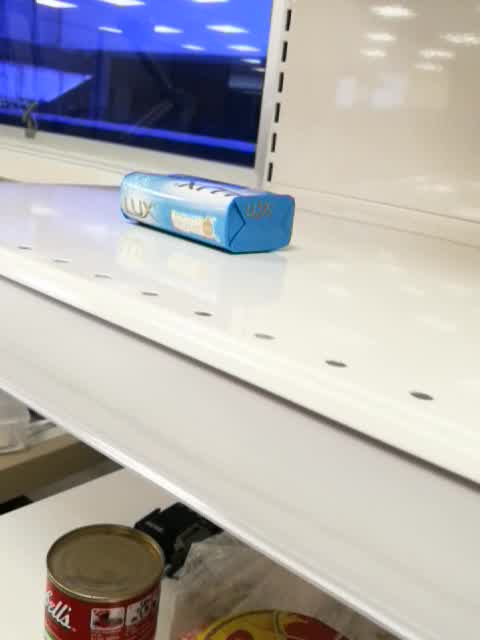soap: (118, 170, 296, 257)
